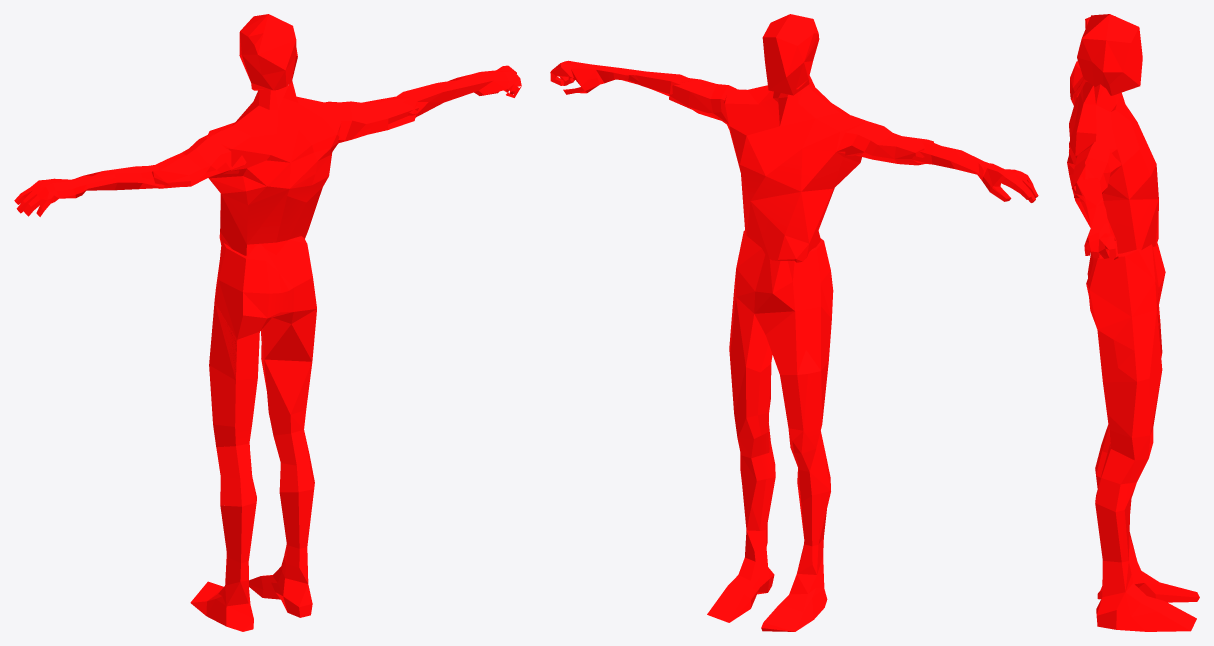
File: red_crystal_enemy_static.glb
The picture shows the model from 3 angles, left to right: view 1: azimuth 30°, elevation 25°; view 2: azimuth 150°, elevation 25°; view 3: azimuth 270°, elevation 25°; orthographic projection. The views are drawn at different scales.
Parts seen in each view (by area): view 1: RedCrystal_Enemy; view 2: RedCrystal_Enemy; view 3: RedCrystal_Enemy.
Boxes of the visible parts, <box> form: RedCrystal_Enemy: <box>14,14,521,631</box>; RedCrystal_Enemy: <box>550,14,1038,631</box>; RedCrystal_Enemy: <box>1067,14,1199,631</box>.
Bounding box in the file's own units: 1.69 × 1.95 × 0.3942.
